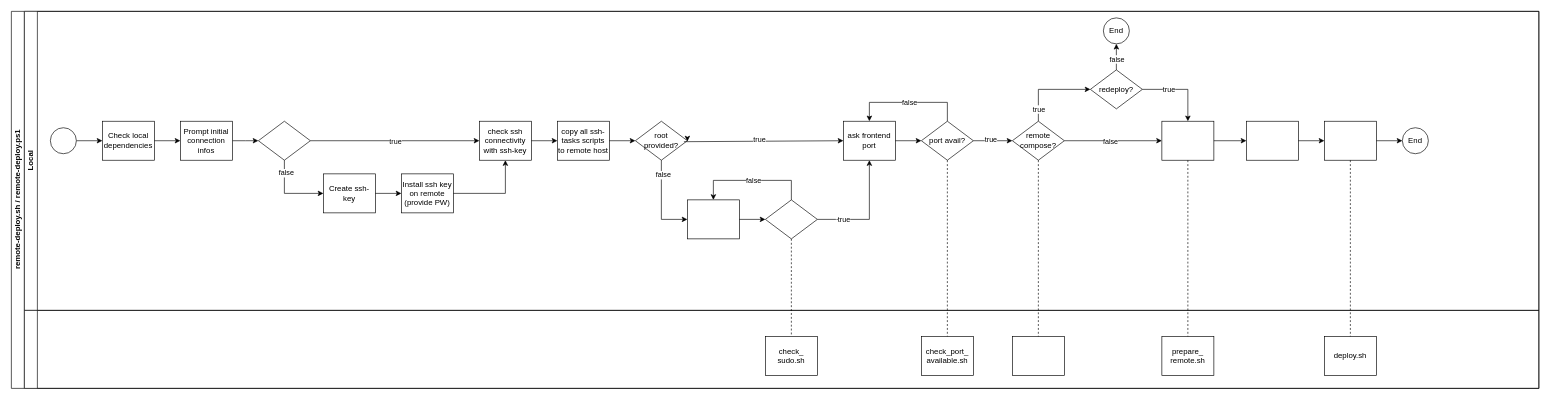
Some shapes in this 1550 by 400 pixel diagram are drawn without their labels. The shapes that lost their labels are listed below. From the top down, each one's box as (x1, y1, x2, y2) in pixels, then its label:
(50, 127, 76, 154): Start
(258, 121, 310, 160): ssh-key?
(1161, 121, 1214, 160): prepare remote
(1246, 121, 1298, 160): sync files via scp
(1324, 121, 1376, 160): deploy on remote
(687, 199, 739, 239): prompt SUDO password
(765, 199, 817, 239): success?
(24, 310, 1539, 388): Remote Host
(1012, 336, 1064, 375): check_ compose.sh
